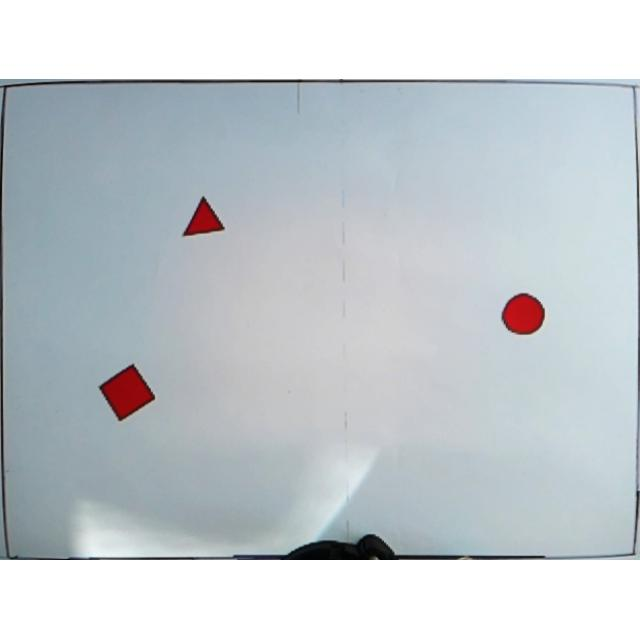redCircle: (501, 292, 547, 338)
redSquare: (98, 363, 156, 422)
redTriangle: (182, 195, 224, 239)
